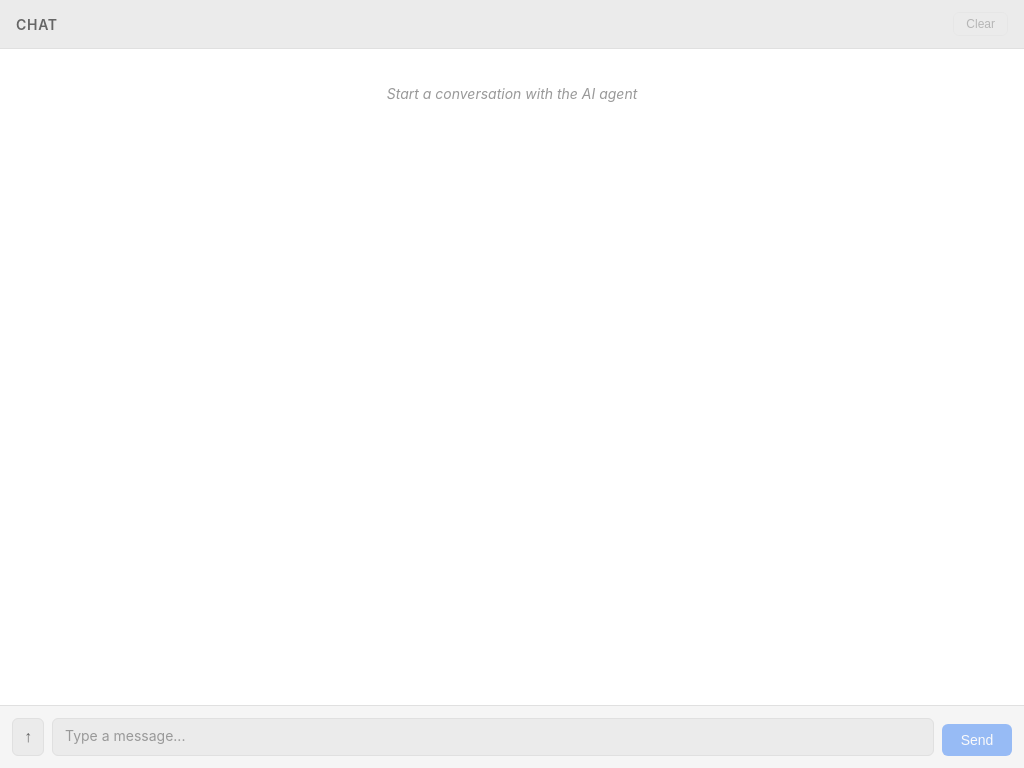
Test case: ChatPanel › prompt history › populates input when history item is selected
Click the button titled "Prompt history": x=28, y=737 x1=12 y1=718 x2=44 y2=756
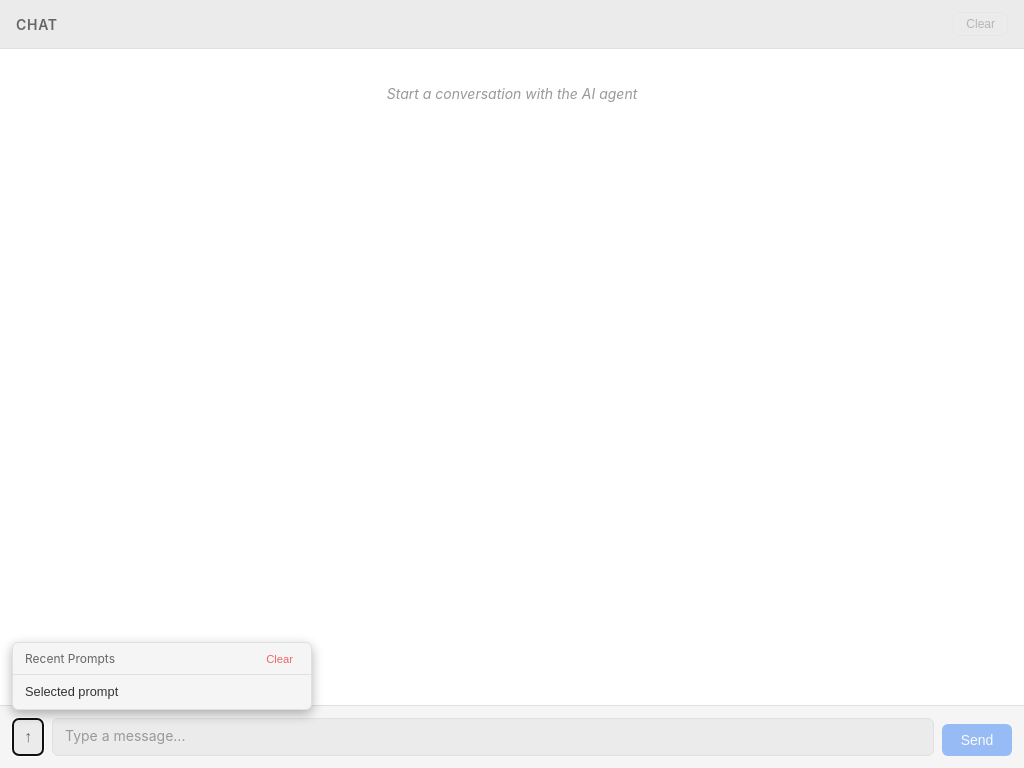
Click the button "Selected prompt": x=72, y=692 x1=13 y1=675 x2=311 y2=709
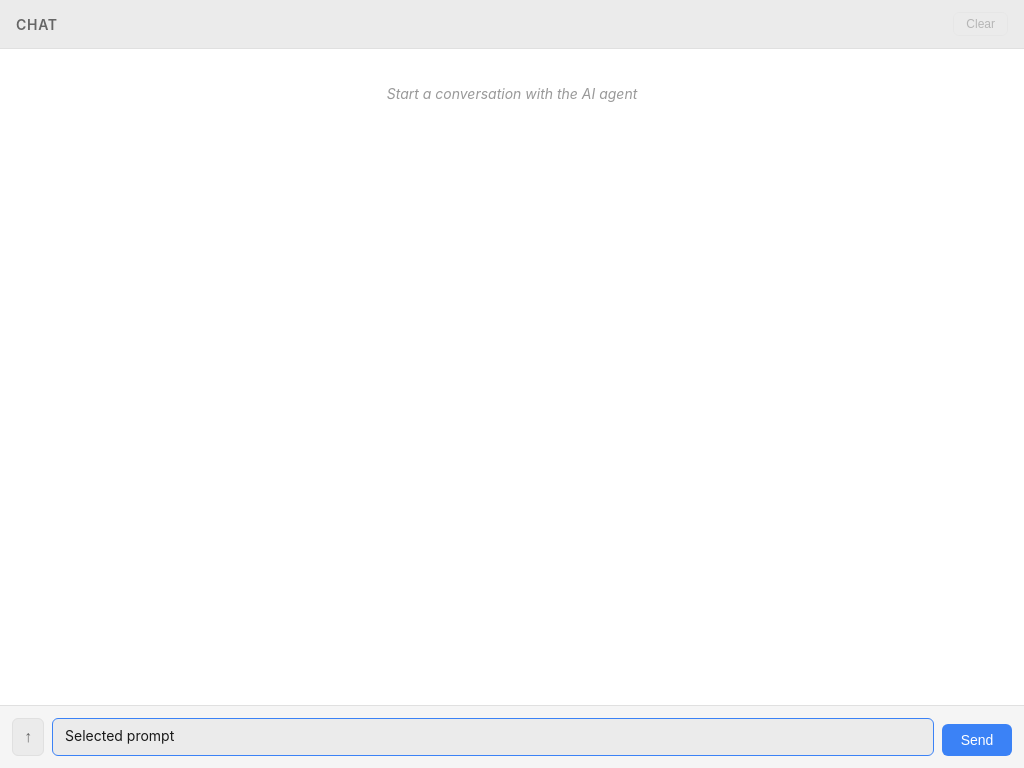
Now the text box with placeholder "Type a message..." holds "Selected prompt", box x1=52 y1=718 x2=934 y2=756
